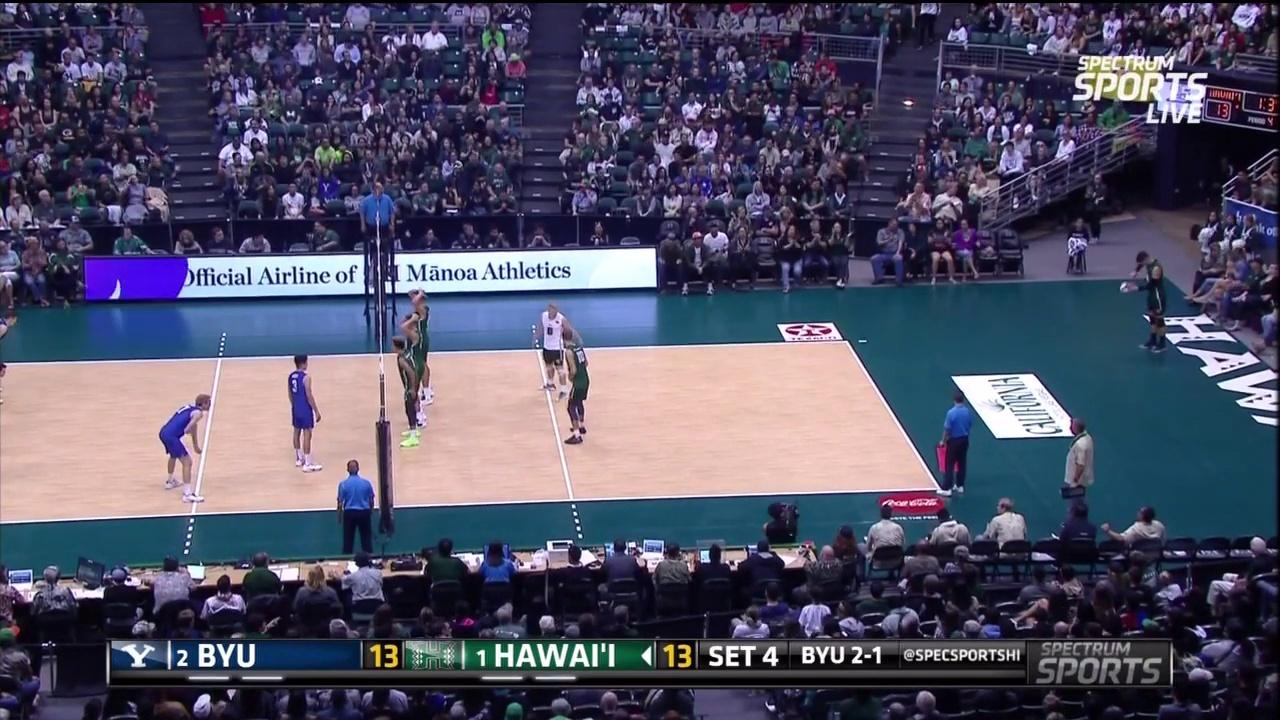player: (156, 398, 213, 501), (1121, 250, 1169, 359), (286, 352, 322, 469), (408, 288, 442, 406), (533, 301, 571, 397), (395, 337, 424, 451), (562, 330, 589, 449), (401, 314, 429, 425), (0, 309, 21, 404)
refree: (334, 458, 382, 551), (934, 391, 974, 499), (359, 179, 396, 261)
